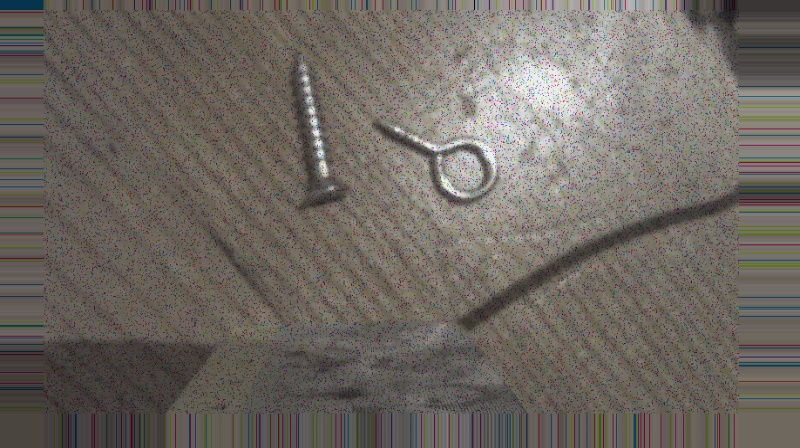O001: (366, 117, 500, 205)
S001: (287, 49, 349, 208)
